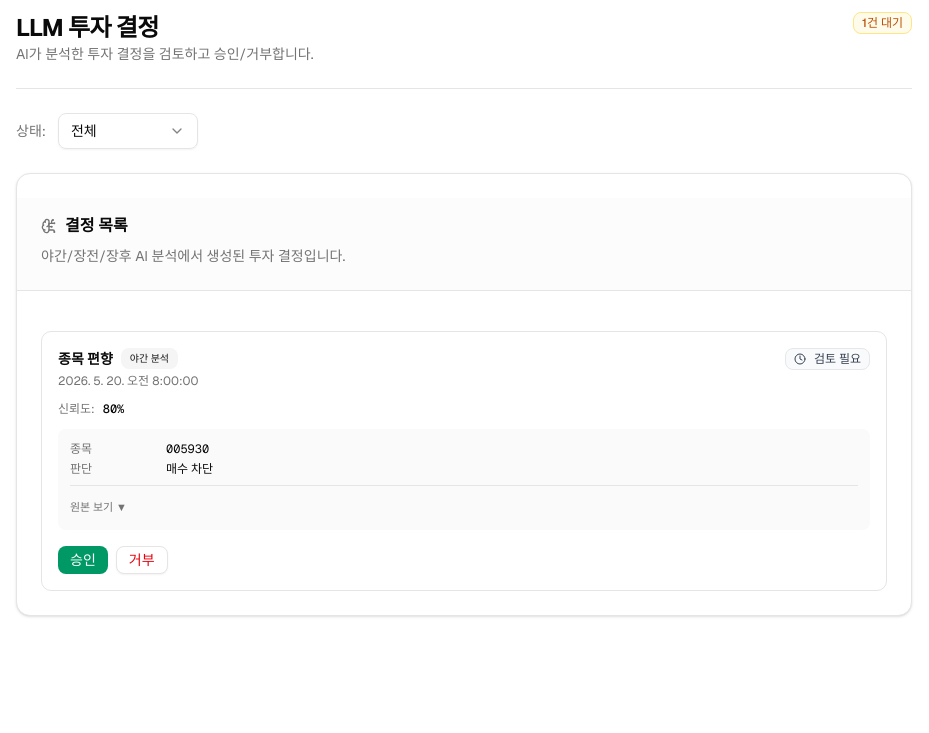
/decisions 카드 UX — 타입별 요약 + 원본 토글 › 원본 JSON 토글: 기본 닫힘 → 클릭 시 펼침
Click the button "원본 보기 ▼" at [98, 507], box top-left (70, 499), bottom-right (127, 516)
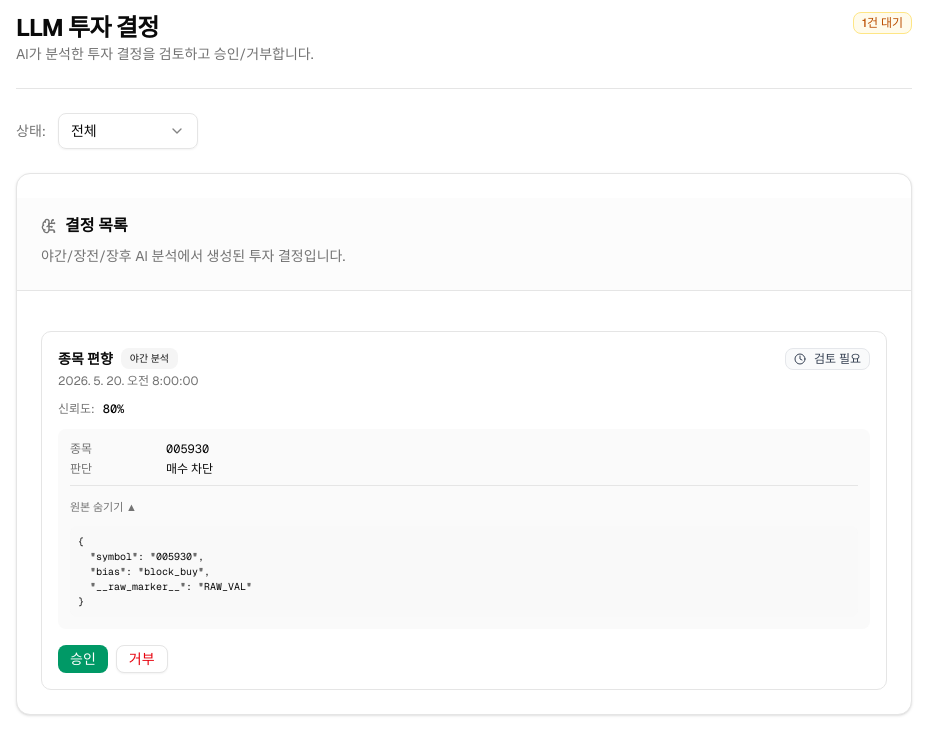
Check: the text with test id "decision-raw-json" is shown, box top-left (70, 526), bottom-right (858, 617)
Check: the text with test id "decision-raw-json" shows "RAW_VAL", box top-left (78, 535), bottom-right (252, 608)
Check: the button "원본 숨기기 ▲" is shown, box top-left (70, 499), bottom-right (137, 516)
